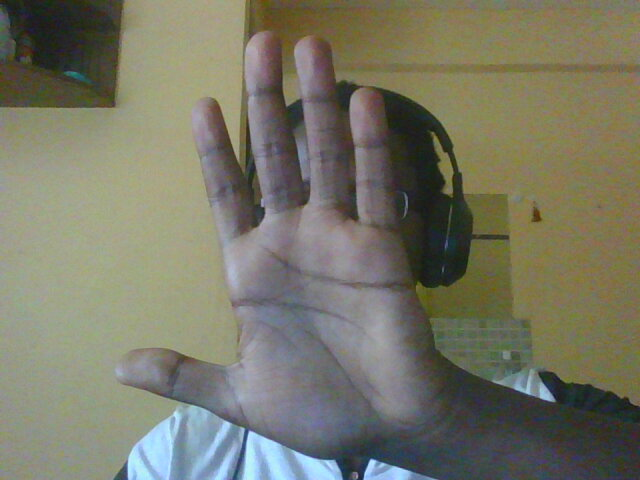Hello: (98, 30, 447, 435)
